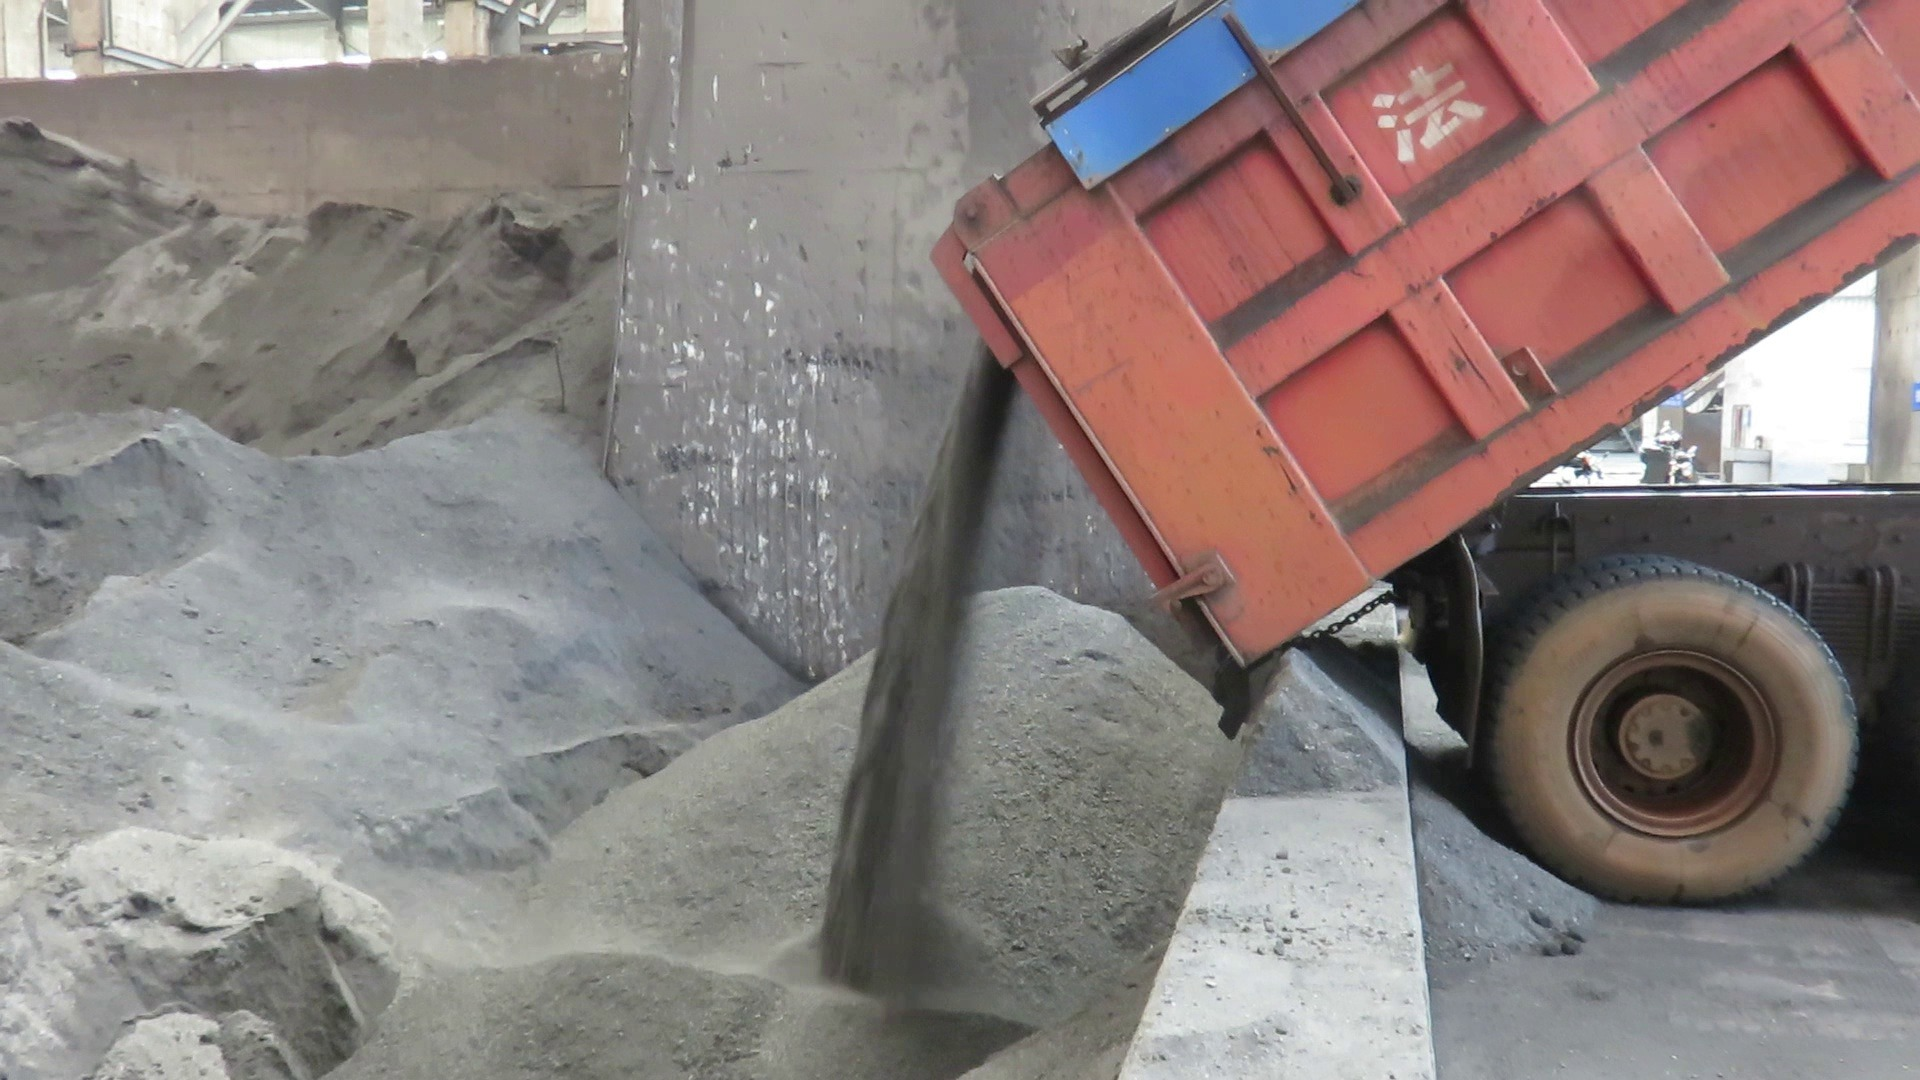truck: (905, 0, 1920, 927)
